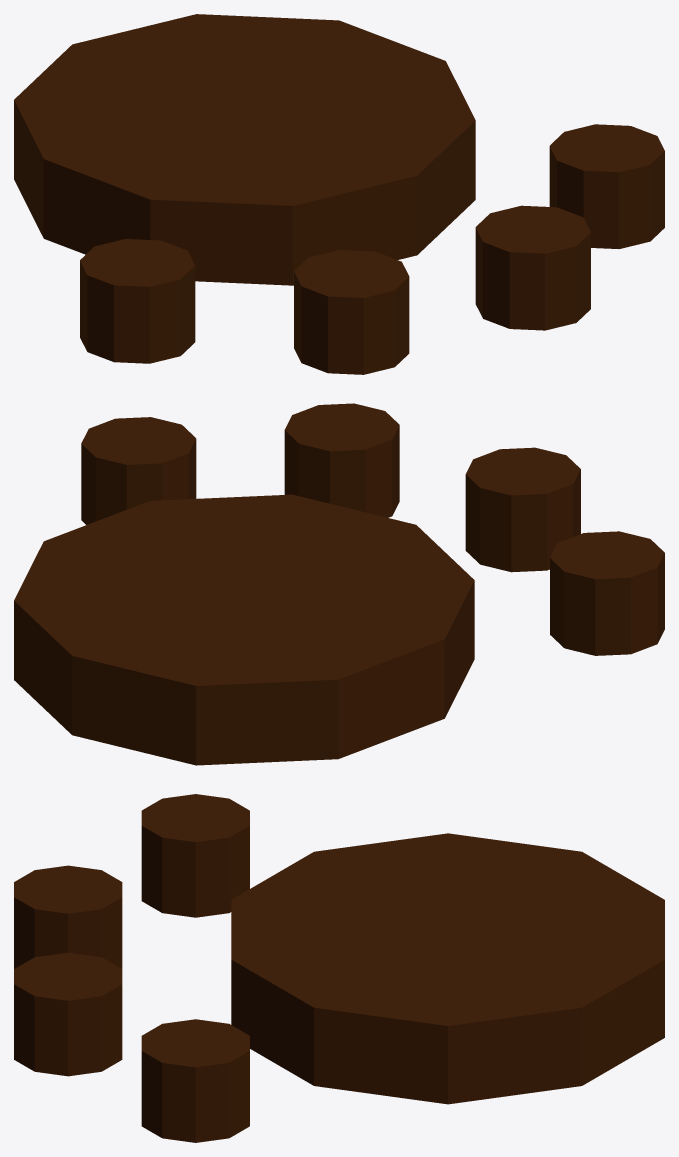
Rendered from AnimalTrail.fbx.
The picture shows the model from 3 angles, top to bottom: view 1: azimuth 30°, elevation 25°; view 2: azimuth 150°, elevation 25°; view 3: azimuth 270°, elevation 25°; orthographic projection.
Parts seen in each view (by area): view 1: AnimalFootprint; view 2: AnimalFootprint; view 3: AnimalFootprint.
Part boxes in pixels (x1,y1,x2,y2): AnimalFootprint: (14, 14, 664, 374); AnimalFootprint: (14, 403, 664, 765); AnimalFootprint: (14, 794, 664, 1142).
Bounding box in the file's own units: 0.776 × 0.1036 × 0.7808.
